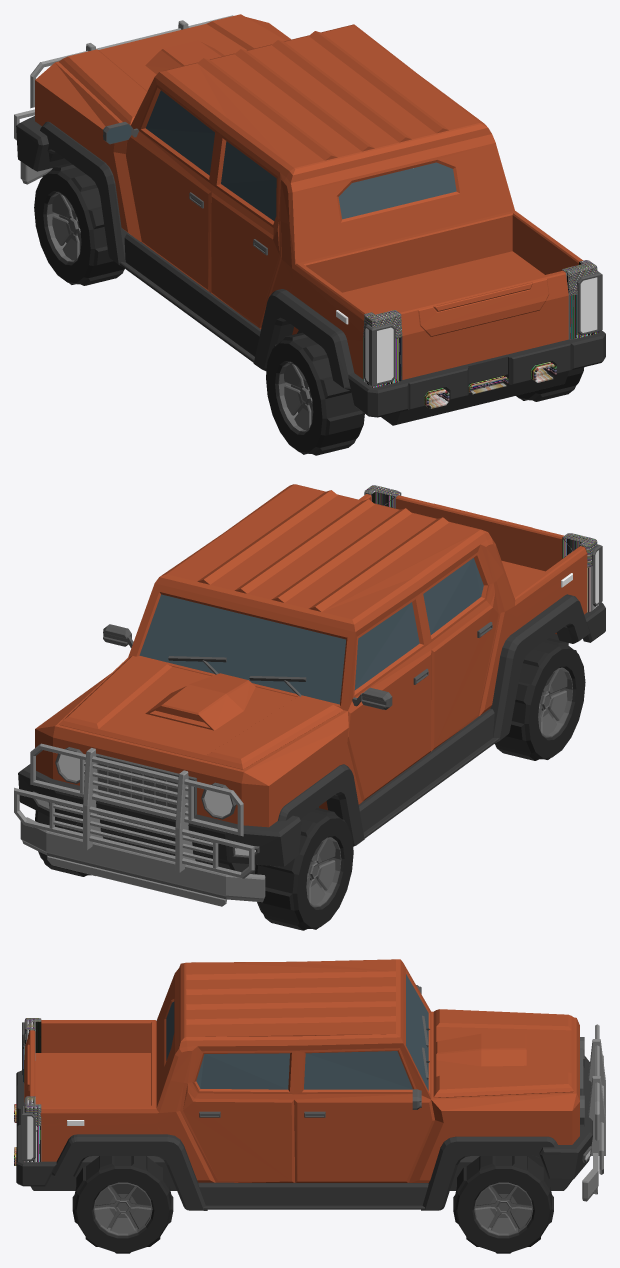
The model's file is lp-suv-grey.glb.
3 renders of one model, top to bottom at view 1: azimuth 30°, elevation 25°; view 2: azimuth 150°, elevation 25°; view 3: azimuth 270°, elevation 25°, orthographic. The views are drawn at different scales.
Visible parts, largest first — view 1: lp-suv-grey; view 2: lp-suv-grey; view 3: lp-suv-grey.
Boxes of the visible parts, <box> form: lp-suv-grey: <box>14,14,605,455</box>; lp-suv-grey: <box>14,484,605,930</box>; lp-suv-grey: <box>14,959,605,1253</box>.
Size of the model in its own units: 2.29 by 1.95 by 5.
1 material, 1 textured.
